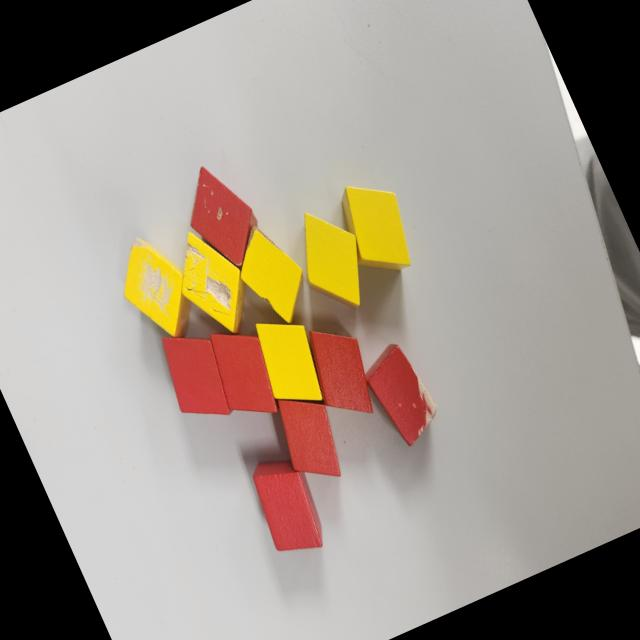broken: (162, 219, 266, 349), (105, 226, 208, 353), (170, 153, 272, 280), (224, 216, 320, 338), (354, 334, 448, 456)
red: (238, 442, 338, 568), (149, 318, 243, 436), (197, 314, 291, 432), (294, 313, 388, 431), (264, 381, 358, 496)
yellow: (281, 196, 384, 324), (328, 166, 427, 288), (242, 302, 337, 420)
